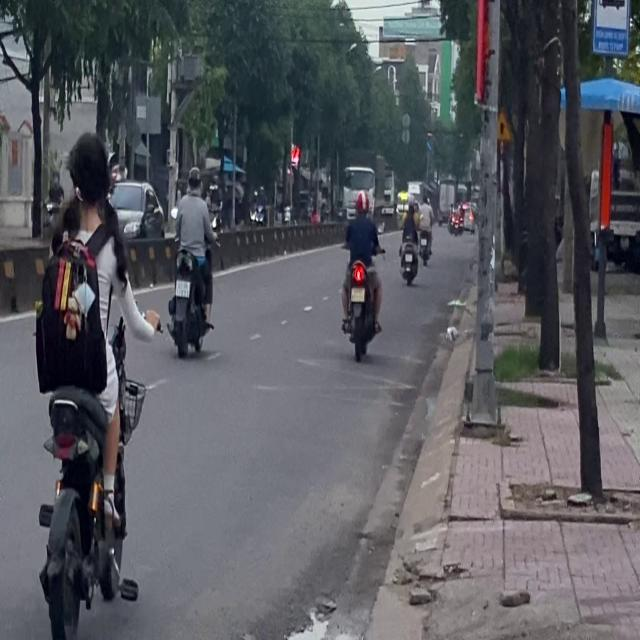helmet: (186, 166, 201, 193)
licenseplate: (28, 123, 151, 639), (167, 164, 216, 357)
motorcyclist: (68, 130, 112, 213)
nohelmet: (175, 280, 189, 296)
